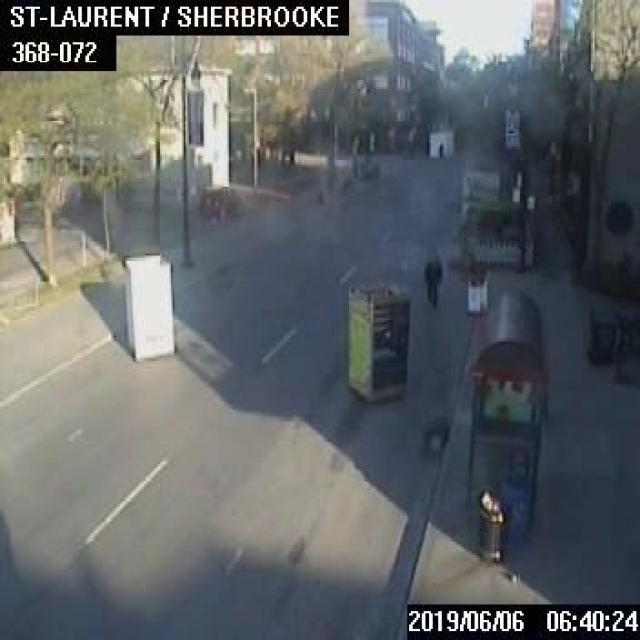pedestrian: (421, 246, 440, 307)
vehicle: (198, 184, 237, 218)
